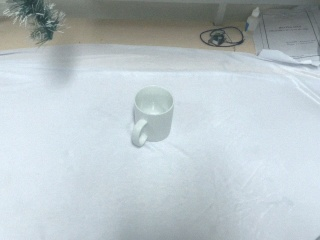cup: (130, 85, 175, 146)
